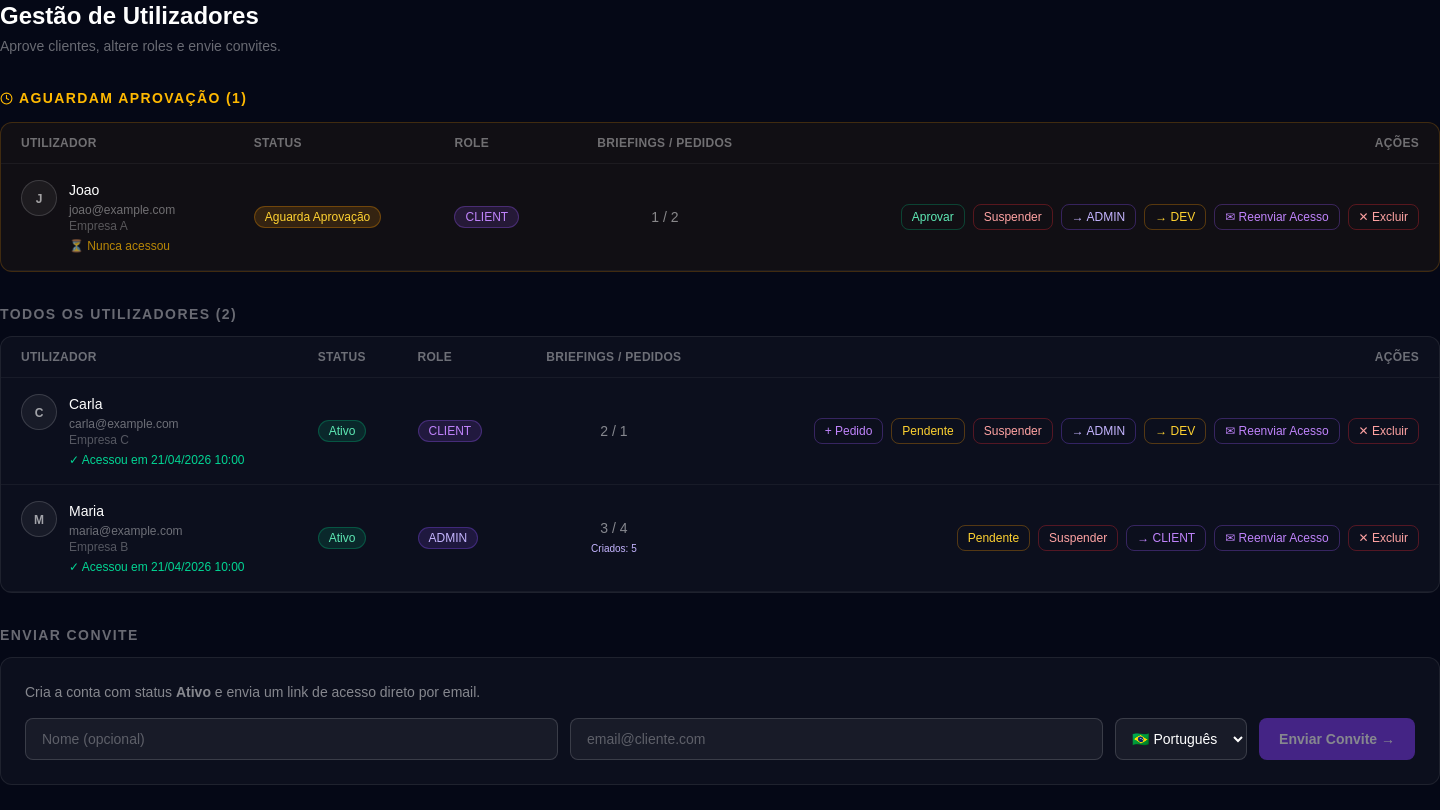
Test: UsersClient › renderiza pendentes e restantes, e envia convite com sucesso
Expected: the text "Aguardam Aprovação (1)" is shown, left=0, top=88, right=247, bottom=108
Expected: the heading "Todos os Utilizadores (2)" is shown, left=0, top=306, right=237, bottom=322
Step 1. Type "novo@example.com" into the field with placeholder "email@cliente.com" → [836, 738], box left=570, top=718, right=1103, bottom=760
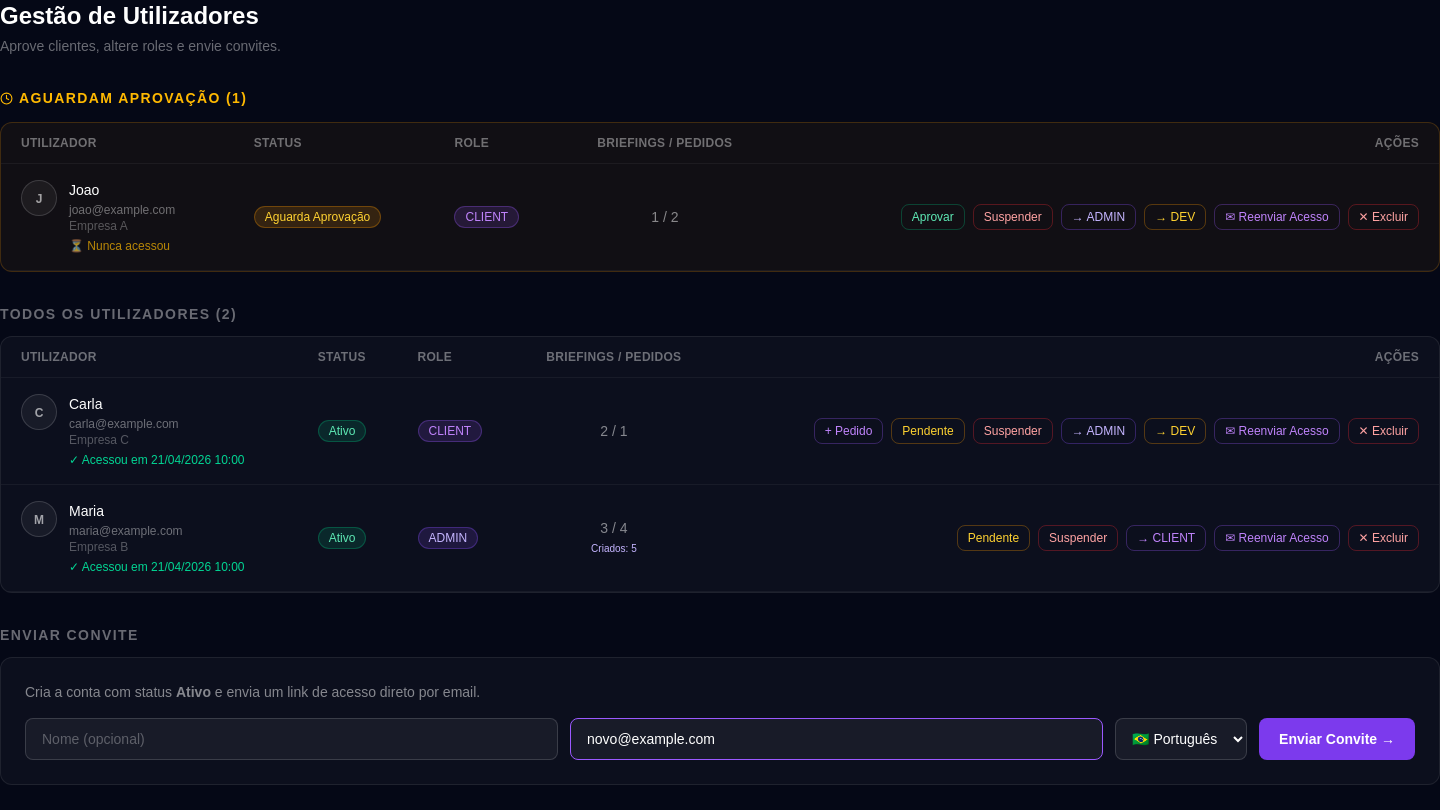
Step 2. Click the button "Enviar Convite →" → [1337, 738], box left=1259, top=718, right=1415, bottom=760
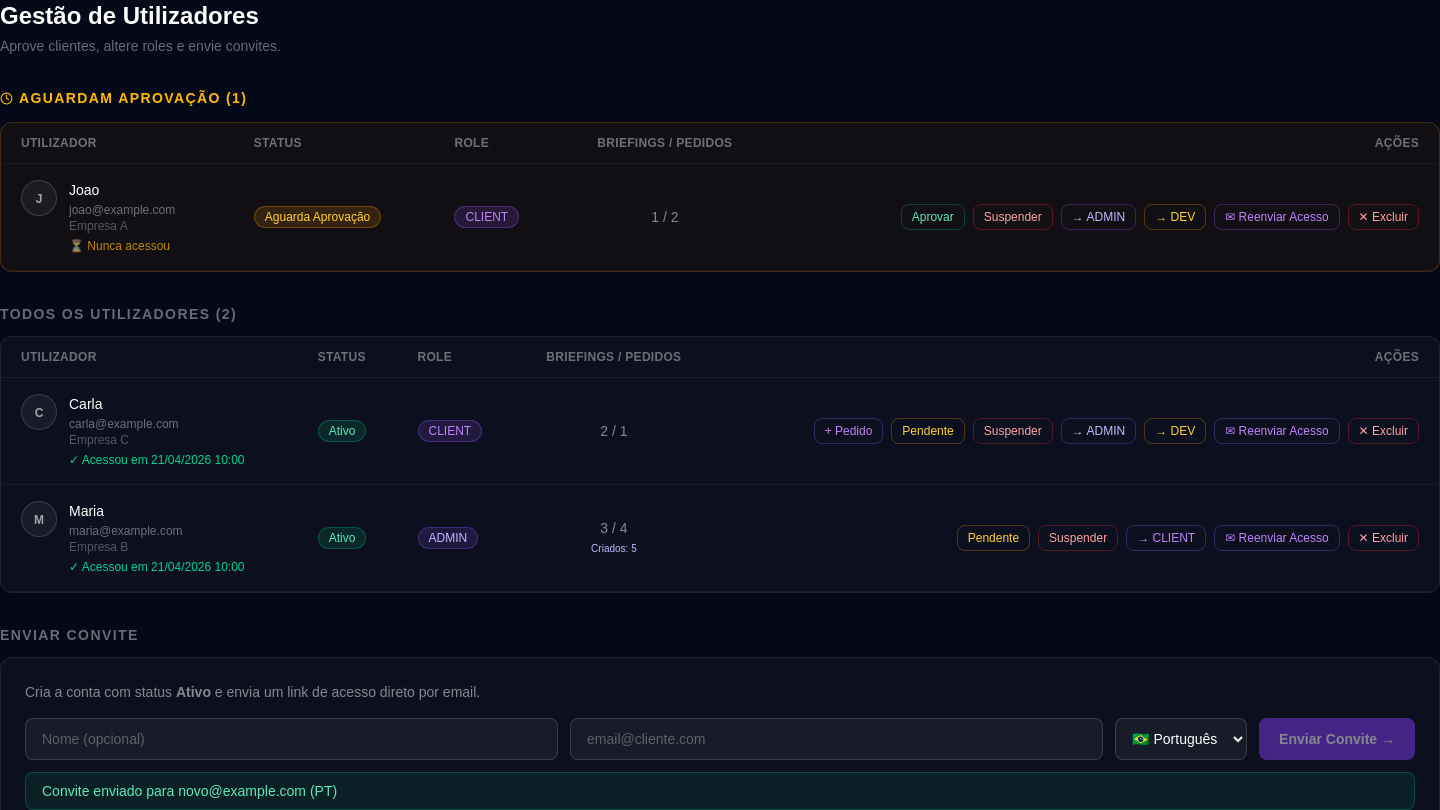
Result: the text "Convite enviado para novo@example.com (PT)" is shown at left=25, top=772, right=1415, bottom=809
